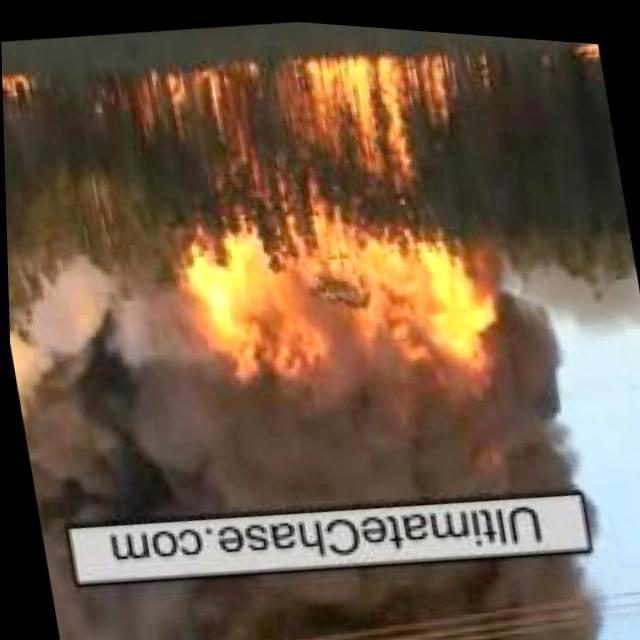fire: (144, 28, 512, 432), (2, 71, 30, 109), (574, 33, 602, 63)
